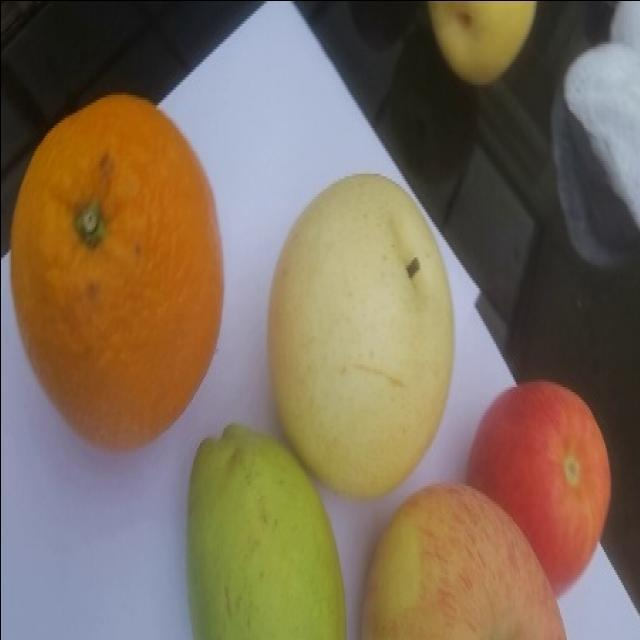Apple: (359, 482, 566, 639), (465, 379, 612, 599)
Orange: (9, 92, 224, 452)
